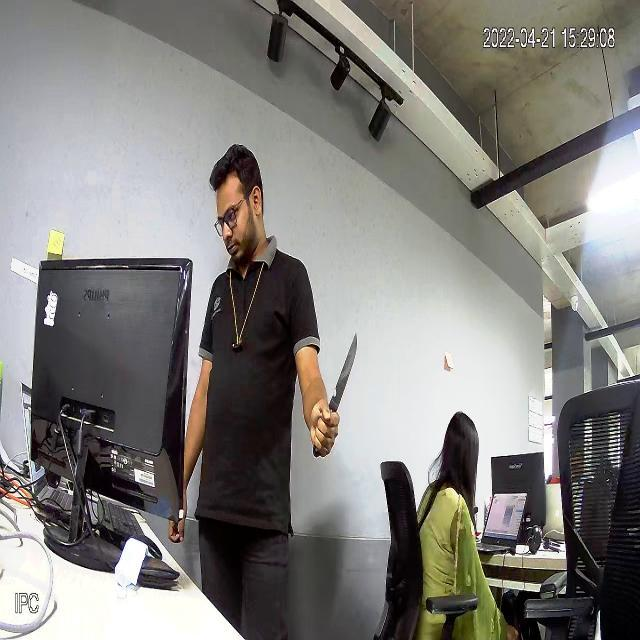Knife: (325, 329, 363, 454)
